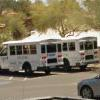Bus: (3, 36, 100, 74)
